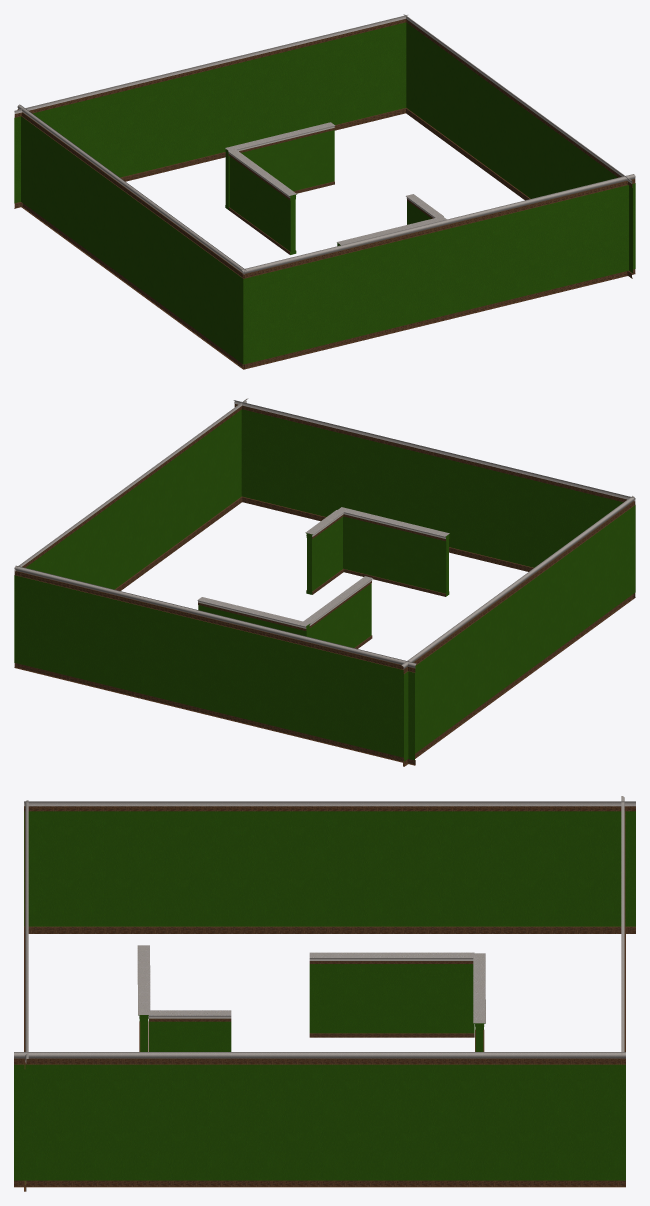
The model's file is Wall_Baked.fbx.
3 views of the same model, one above another, from view 1: azimuth 30°, elevation 25°; view 2: azimuth 150°, elevation 25°; view 3: azimuth 270°, elevation 25° (orthographic). The views are drawn at different scales.
Parts seen in each view (by area): view 1: polySurface7, polySurface3, polySurface8, polySurface5, polySurface1; view 2: polySurface3, polySurface8, polySurface7, polySurface5, polySurface1; view 3: polySurface1, polySurface5, polySurface8.
Boxes of the visible parts, box(x1,y1,x2,y2) form: polySurface7: box(243, 183, 635, 364); polySurface3: box(14, 22, 406, 203); polySurface8: box(14, 14, 635, 369); polySurface5: box(21, 116, 243, 363); polySurface1: box(406, 22, 632, 273); polySurface3: box(14, 575, 414, 760); polySurface8: box(14, 398, 635, 766); polySurface7: box(241, 409, 635, 592); polySurface5: box(404, 505, 635, 761); polySurface1: box(14, 410, 241, 662); polySurface1: box(14, 1064, 625, 1180); polySurface5: box(24, 811, 635, 926); polySurface8: box(14, 796, 635, 1191).
Bounding box in the file's own units: 5083 × 1204 × 5083.
